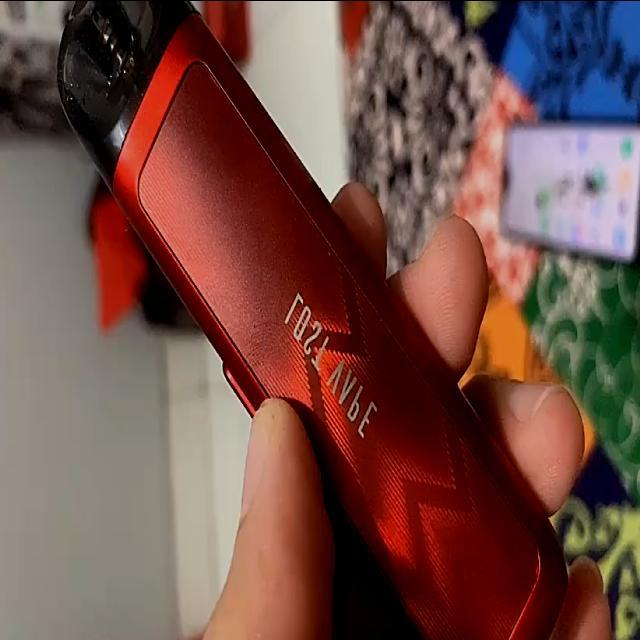Hazard: (58, 0, 570, 637)
